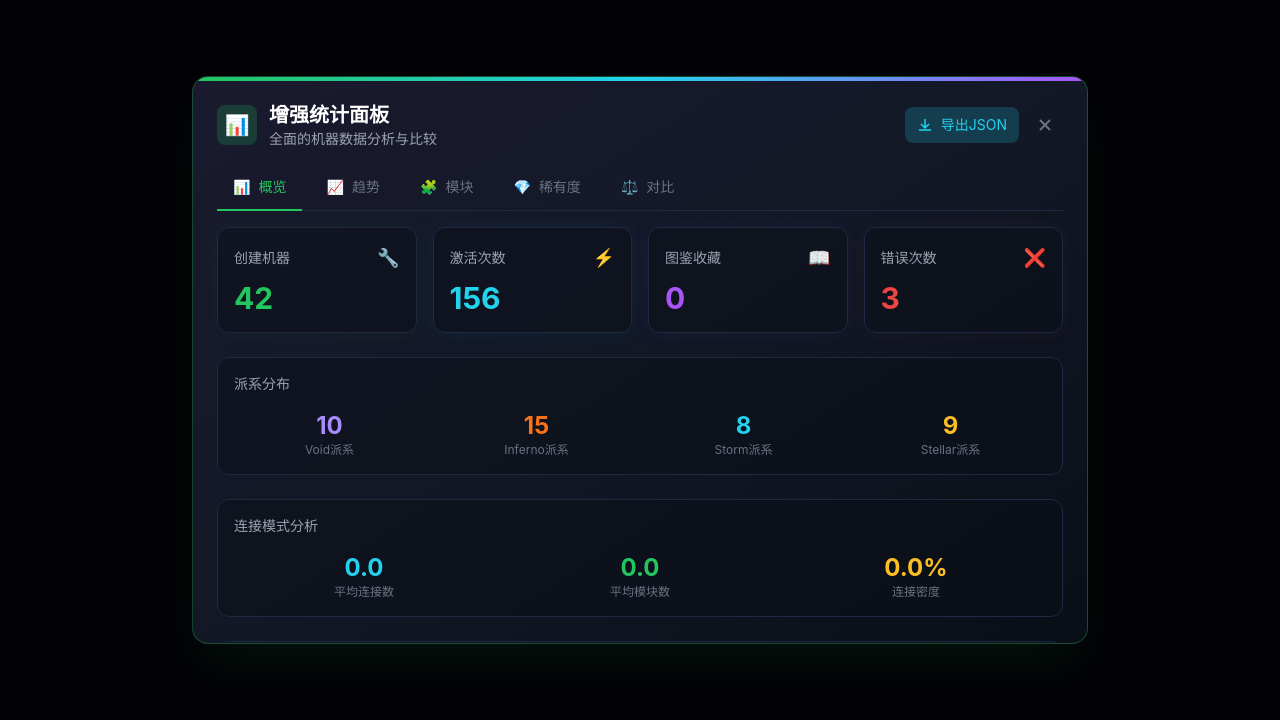
it: EnhancedStatsDashboard › Comparison Tab Behavior › shows disabled comparison button when codex has < 2 machines
Click the tab with test id "stats-tab-comparison" at [648, 188], box [605,165,690,211]
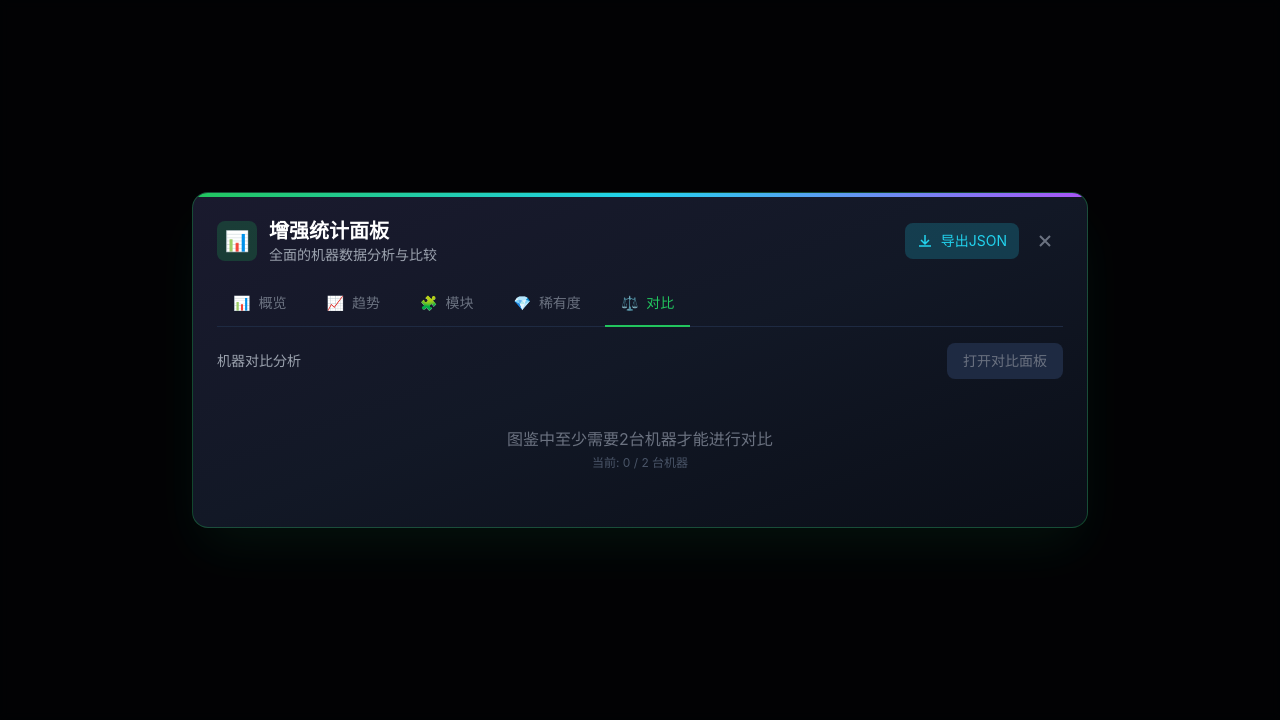
Expected: the button with test id "open-comparison-button" is disabled, [947,343,1063,379]
